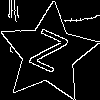Z: (23, 28, 70, 83)
